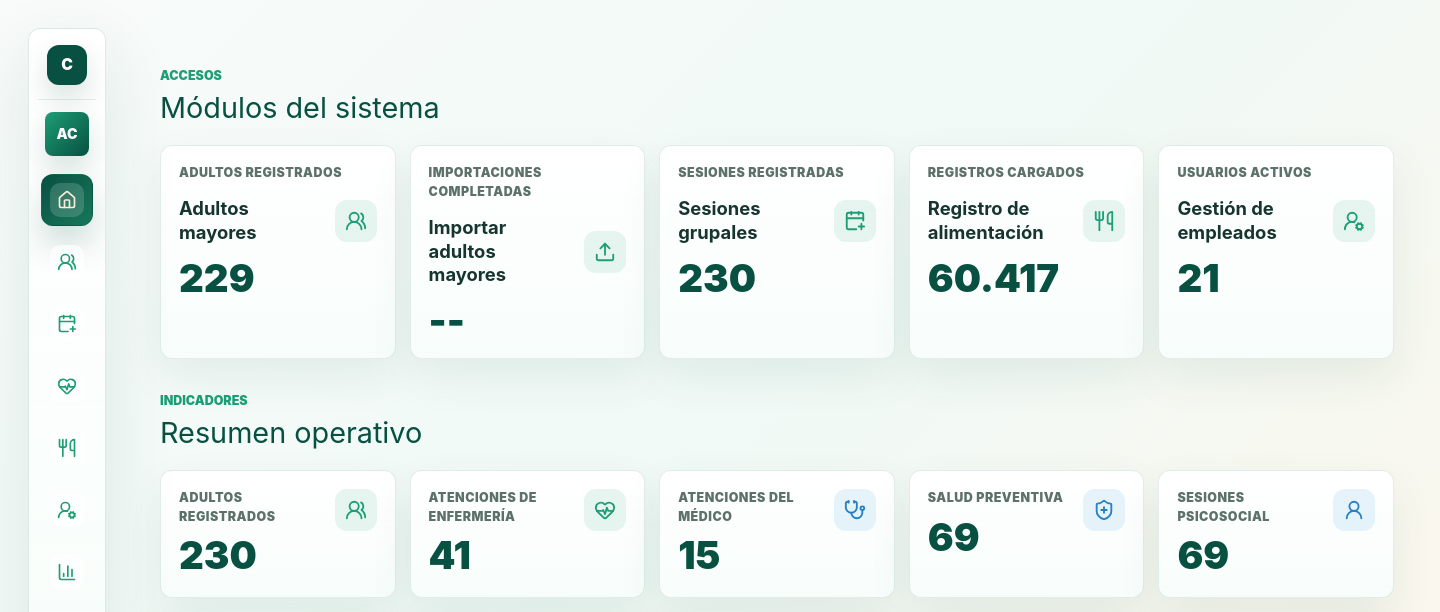
Test case: App home dashboard › navigates the medical attention indicator to adultos mayores
Click the button "Atenciones del médico 15". click: (777,534)
box: [659,470,895,598]
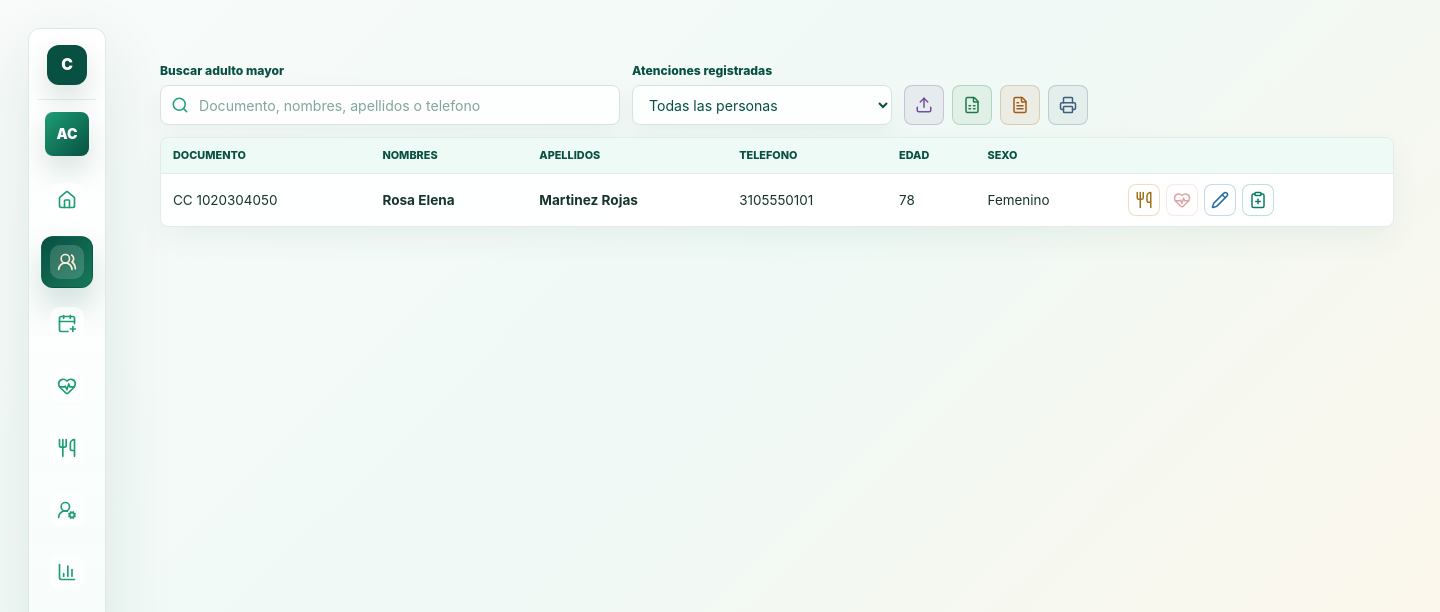
expect the element named "Adultos mayores registrados" is shown: met, box [160,137,1394,227]
